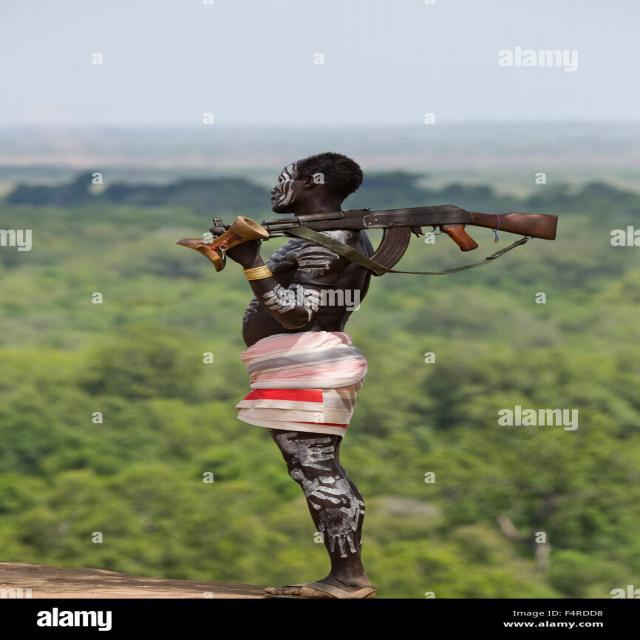weapon: (213, 204, 561, 278)
